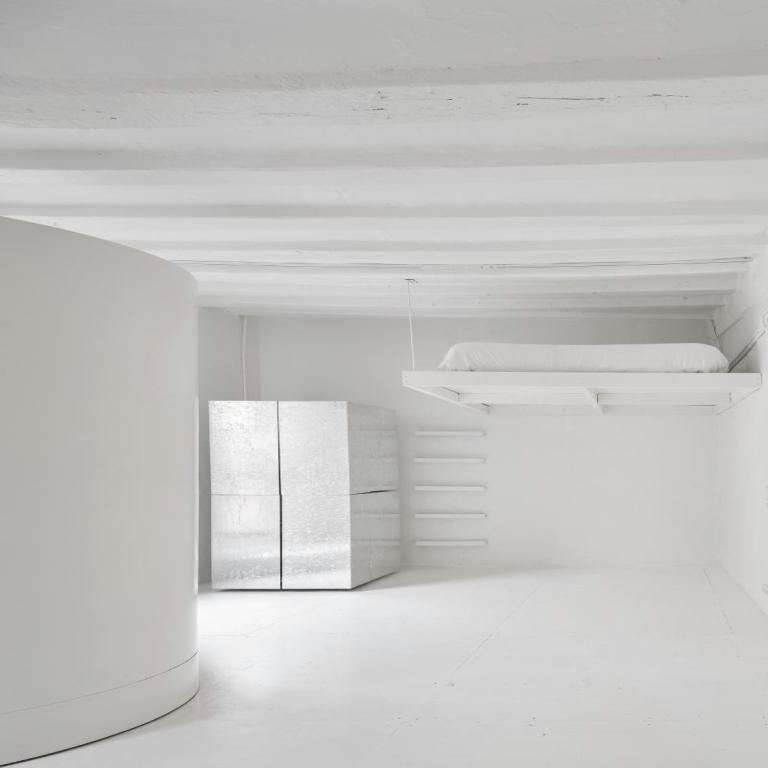white-walls: (496, 430, 709, 560)
